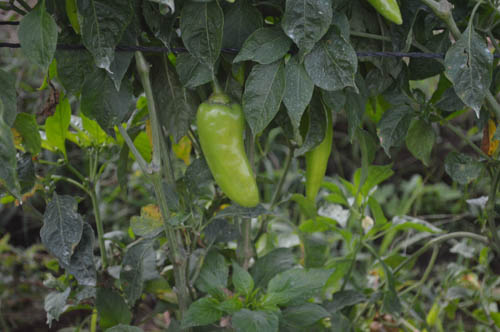ChiliPepper: (196, 101, 260, 212), (299, 112, 337, 202)
